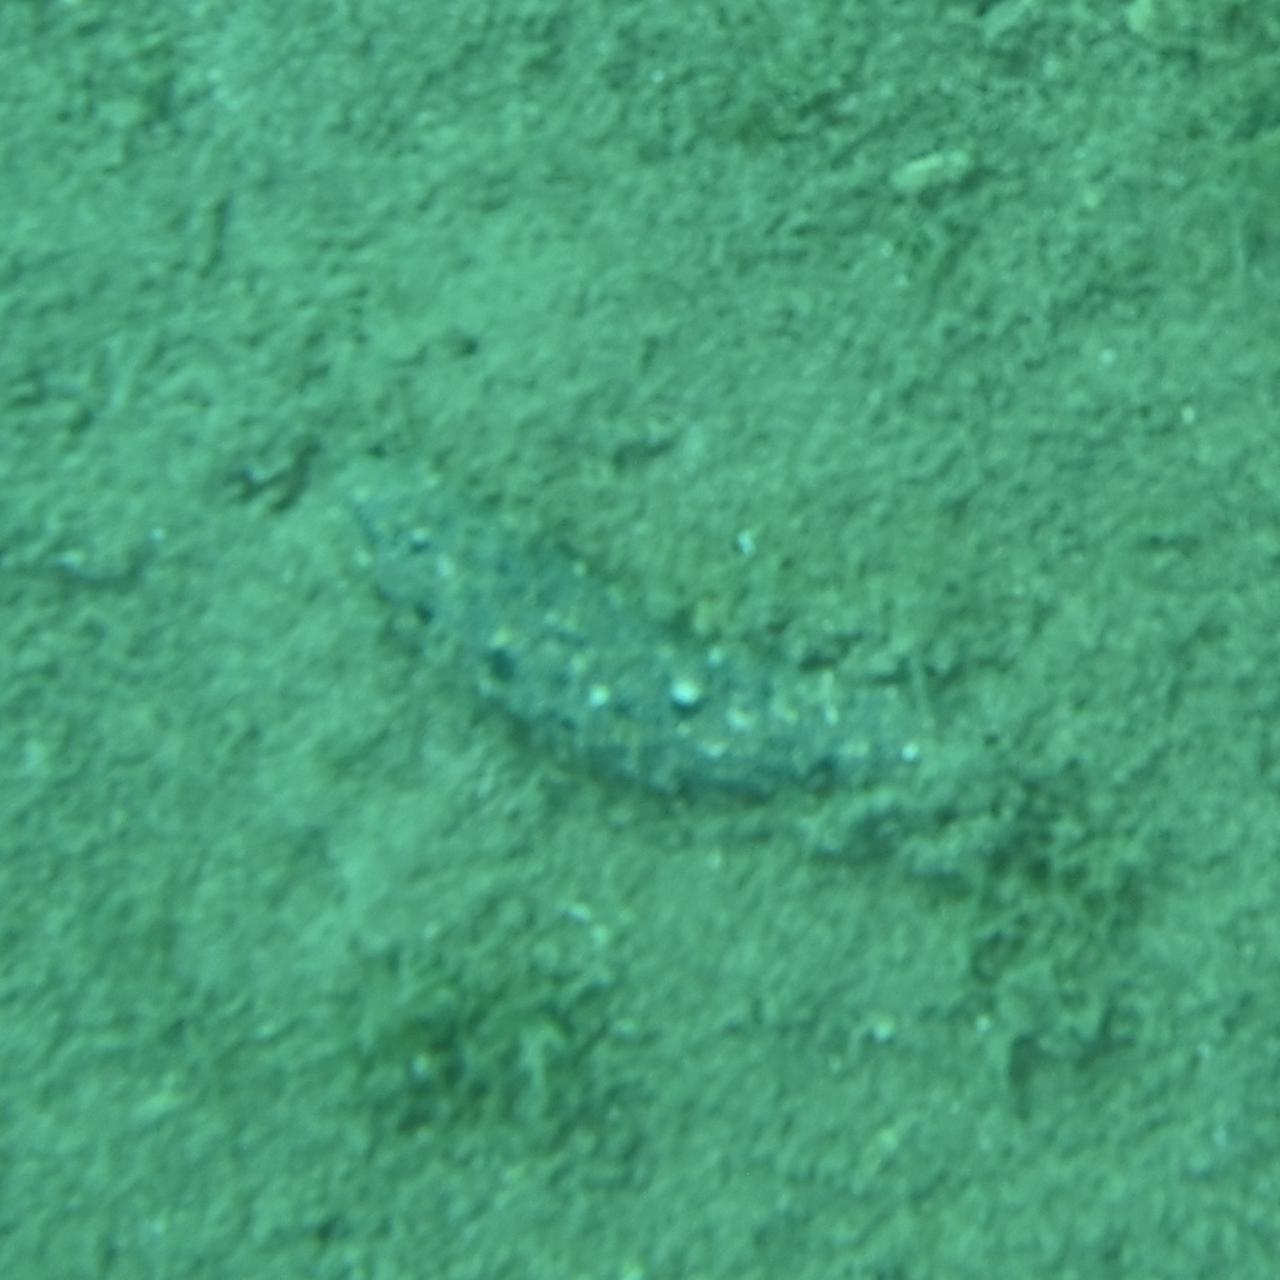Holothuria tubulosa: (324, 438, 956, 842)
